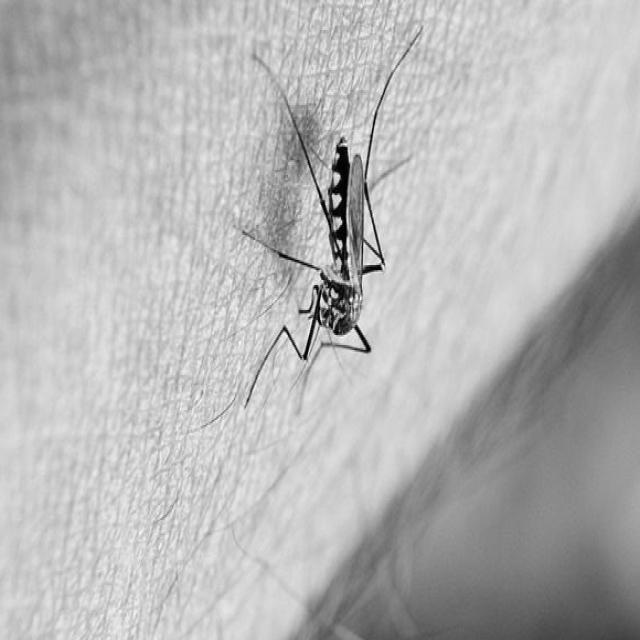Mosquito: (223, 26, 448, 404)
